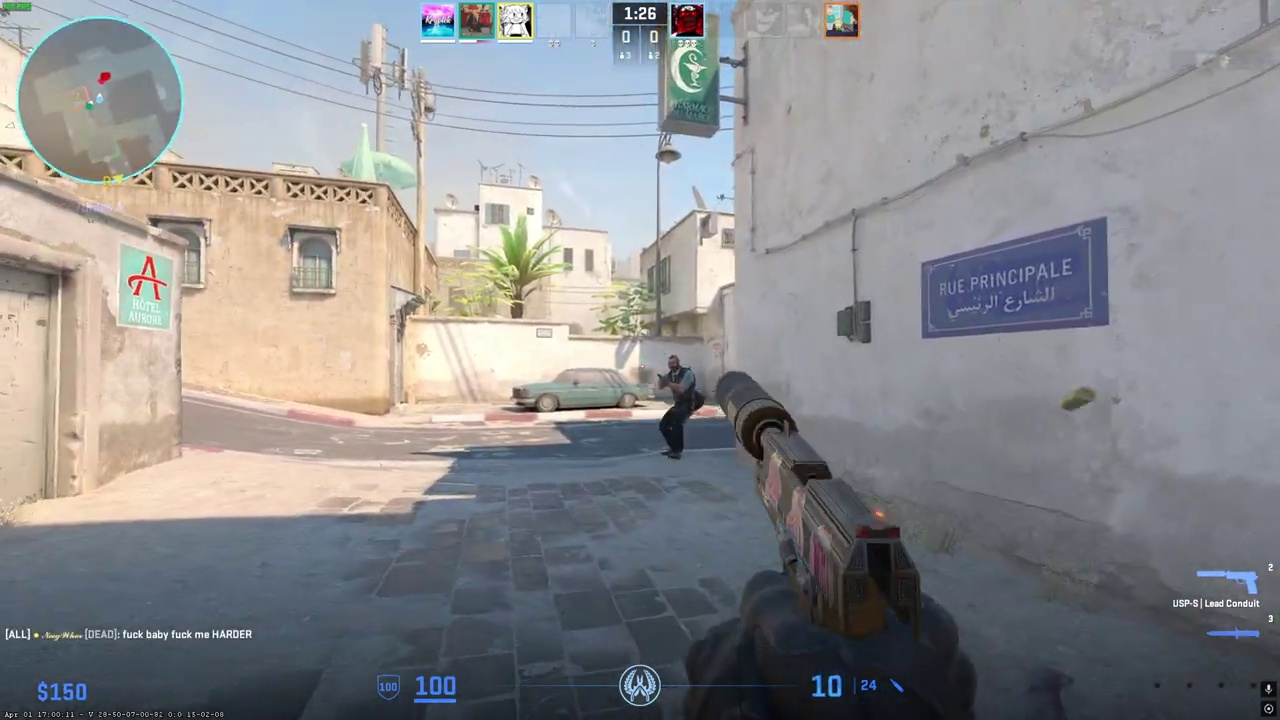Terrorist: (658, 355, 699, 459)
